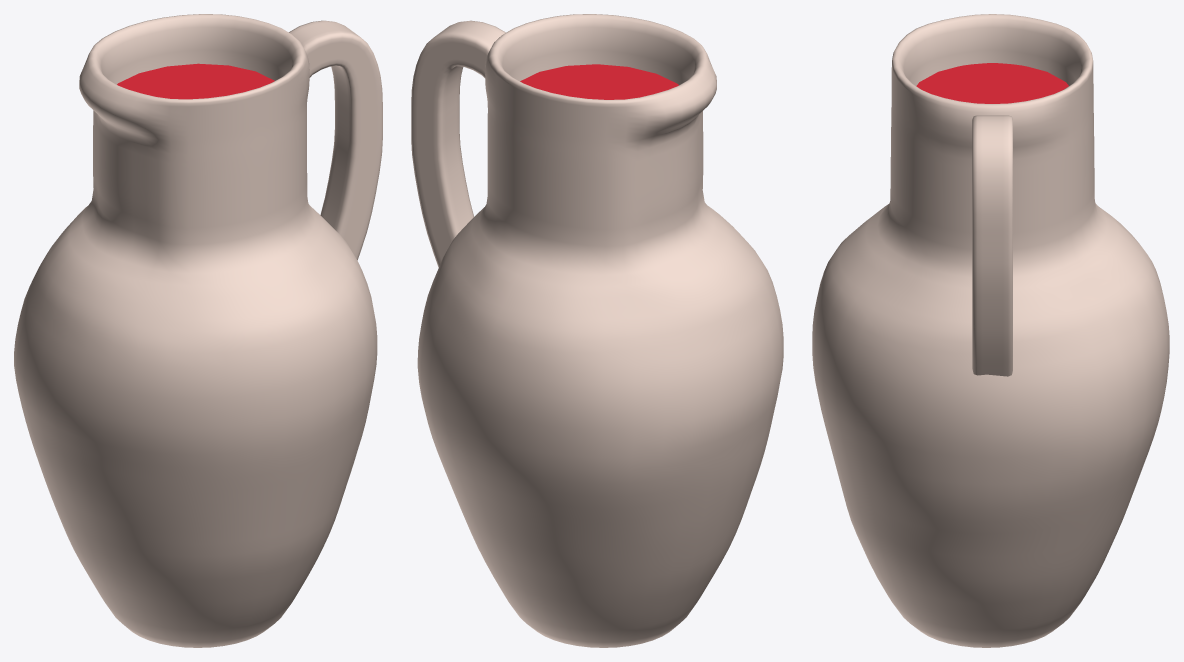
File: madder_jug.obj
3 views of the same model, side by side, from view 1: azimuth 30°, elevation 25°; view 2: azimuth 150°, elevation 25°; view 3: azimuth 270°, elevation 25° (orthographic).
Parts seen in each view (by area): view 1: Cylinder002; view 2: Cylinder002; view 3: Cylinder002.
Boxes of the visible parts, bbox=[...] form: Cylinder002: bbox=[14, 14, 382, 647]; Cylinder002: bbox=[411, 14, 783, 647]; Cylinder002: bbox=[812, 14, 1169, 647].
Bounding box in the file's own units: 21.79 × 34.82 × 19.99.
